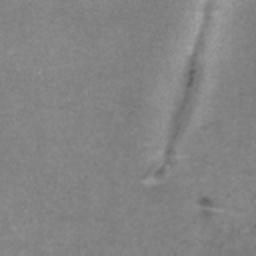Finishing roll printing: (144, 0, 217, 184), (199, 197, 213, 207)
